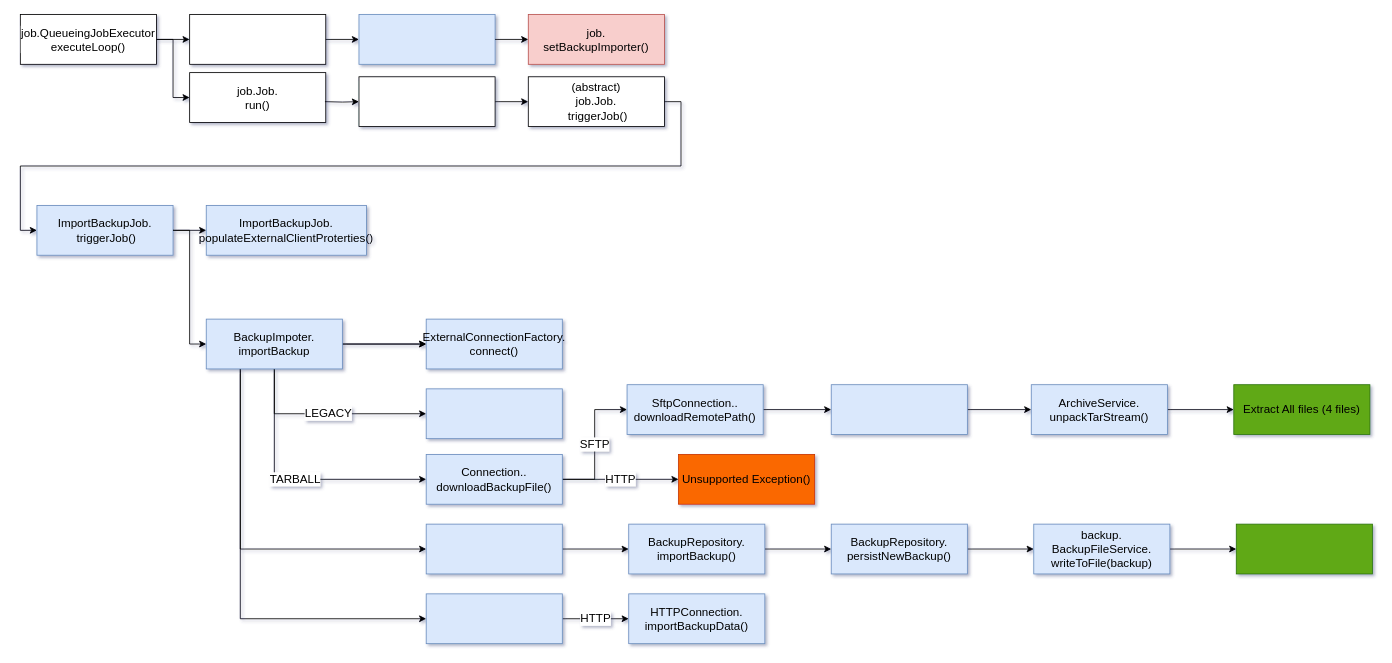
Image size: 1392x663. Some labels were removed from this diagram. The shapes that lost their labels are listed below. From the top down, each one's centre as x and y in pixels, then its label:
At point 257,39: "job.JobFactory. createJob()".
At point 426,39: "JobFactory. getImportBackupJob()".
At point 426,101: "job.Job. runJob()".
At point 493,413: "BackupImpoter. handleLegacyURIFormat()".
At point 898,409: "SftpConnection.. downloadTarStream()".
At point 493,548: "BackupImporter. importBackupFile()".
At point 1303,548: "backup-managers\DEFAULT\ backups\myBackup4.json".
At point 493,618: "BackupImporter. importBackupData()".
